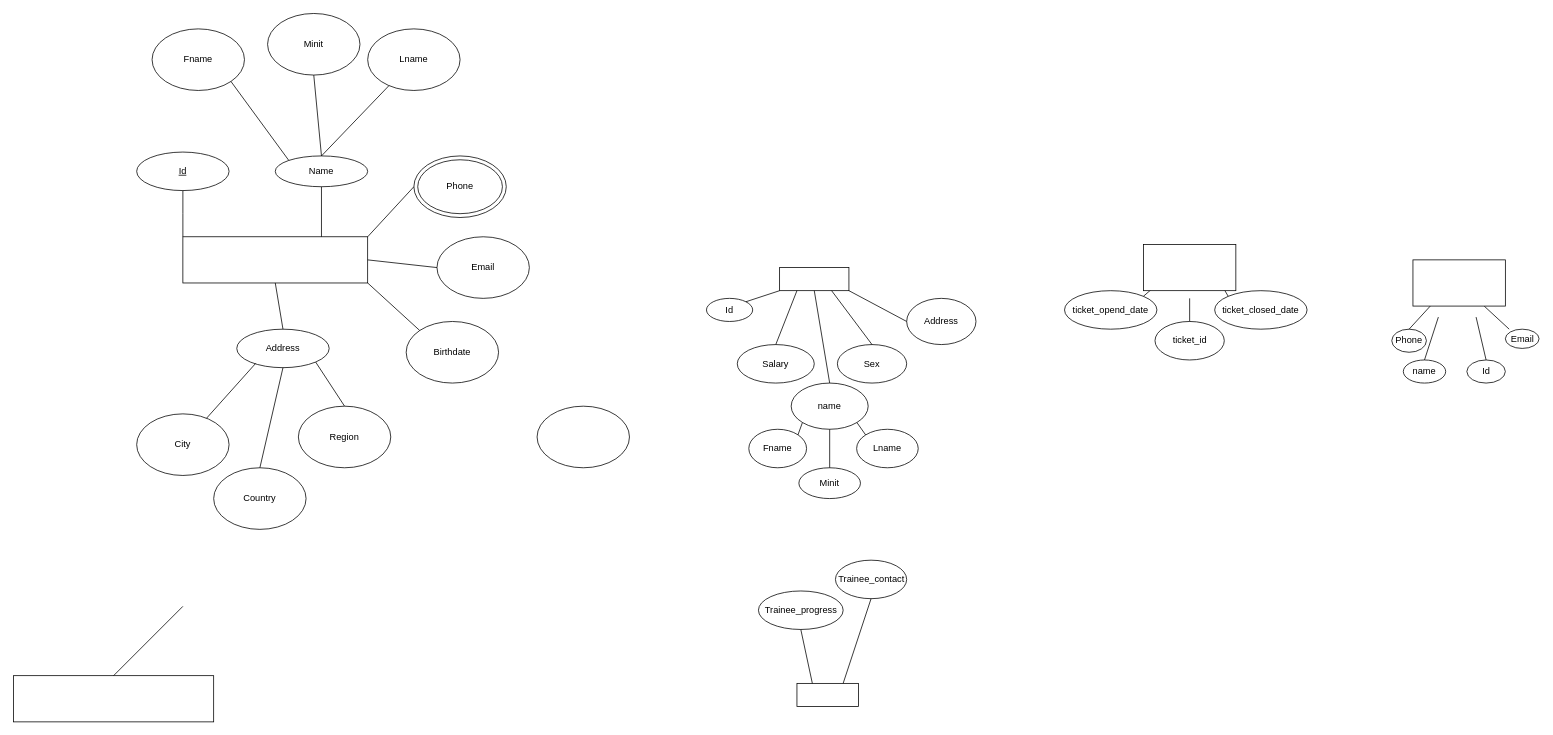
Some shapes in this 1553 by 735 pixel diagram are drawn without their labels. The centre of each missing label's shape, as x and y in pixels:
"COSTUMER" belongs at point 1458,282.
"Dependent" belongs at point 113,698.
"Employee" belongs at point 814,279.
"Nationality" belongs at point 582,436.
"TICKET" belongs at point 1189,267.
"Trainee" belongs at point 275,259.
"Trainer SUB CLASS FROM EMPLOYEE" belongs at point 827,694.
